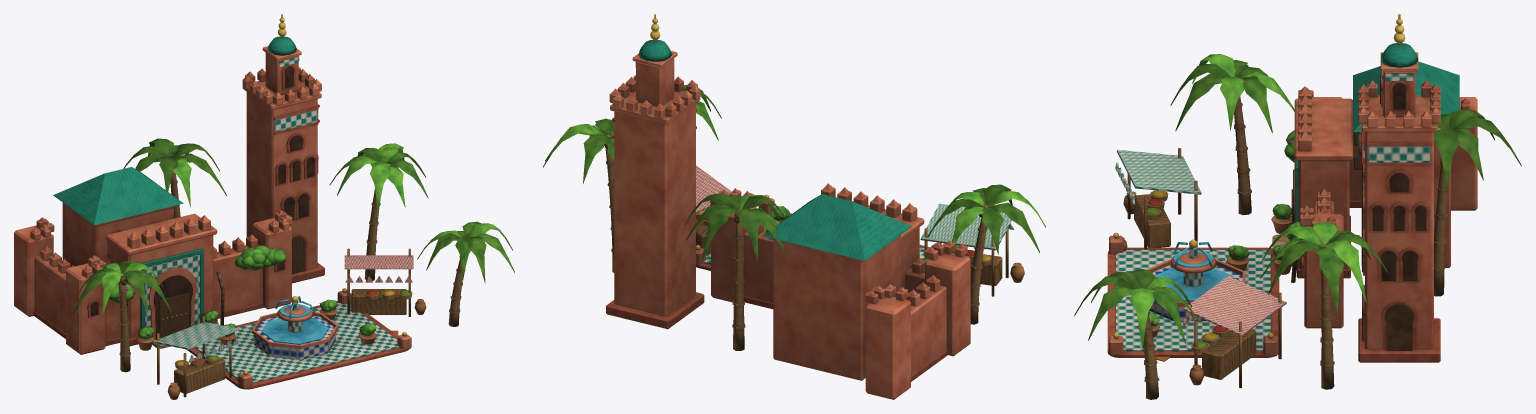
The model's file is MarrakechMedina_Buildings.fbx.
3 views of the same model, side by side, from view 1: azimuth 30°, elevation 25°; view 2: azimuth 150°, elevation 25°; view 3: azimuth 270°, elevation 25° (orthographic). The views are drawn at different scales.
Parts seen in each view (by area): view 1: S02_MedinaWalls, S04_Minaret, S03_MedinaGate, S07_RiadHouse, S01_Courtyard, S08_MarketStalls, S06_TiledFountain, S09_Palm_0, S10_FlowerPots, S09_Palm_1, S09_Palm_3, S09_Palm_2 (+1 smaller); view 2: S04_Minaret, S07_RiadHouse, S02_MedinaWalls, S08_MarketStalls, S09_Palm_2, S09_Palm_1, S05_MinaretTop, S03_MedinaGate, S09_Palm_0, S01_Courtyard; view 3: S04_Minaret, S08_MarketStalls, S01_Courtyard, S03_MedinaGate, S02_MedinaWalls, S09_Palm_0, S09_Palm_1, S09_Palm_3, S09_Palm_2, S07_RiadHouse, S06_TiledFountain, S05_MinaretTop (+1 smaller).
Boxes of the visible parts, <box> form: S02_MedinaWalls: <box>14,209,292,354</box>; S04_Minaret: <box>242,67,324,283</box>; S03_MedinaGate: <box>106,213,217,346</box>; S07_RiadHouse: <box>53,167,183,266</box>; S01_Courtyard: <box>152,288,411,389</box>; S08_MarketStalls: <box>153,248,426,399</box>; S06_TiledFountain: <box>252,296,338,359</box>; S09_Palm_0: <box>329,143,428,280</box>; S10_FlowerPots: <box>108,245,376,350</box>; S09_Palm_1: <box>73,260,171,372</box>; S09_Palm_3: <box>417,221,514,326</box>; S09_Palm_2: <box>123,138,226,218</box>; S04_Minaret: <box>606,75,704,329</box>; S07_RiadHouse: <box>762,194,912,380</box>; S02_MedinaWalls: <box>710,188,970,399</box>; S08_MarketStalls: <box>696,165,1024,296</box>; S09_Palm_2: <box>684,193,786,350</box>; S09_Palm_1: <box>927,184,1045,324</box>; S05_MinaretTop: <box>632,14,677,106</box>; S03_MedinaGate: <box>821,183,924,288</box>; S09_Palm_0: <box>543,118,614,272</box>; S01_Courtyard: <box>696,194,945,270</box>; S04_Minaret: <box>1358,80,1440,362</box>; S08_MarketStalls: <box>1115,148,1286,388</box>; S01_Courtyard: <box>1107,232,1292,357</box>; S03_MedinaGate: <box>1290,86,1352,278</box>; S02_MedinaWalls: <box>1300,87,1477,328</box>; S09_Palm_0: <box>1260,221,1387,389</box>; S09_Palm_1: <box>1170,54,1294,215</box>; S09_Palm_3: <box>1074,269,1198,399</box>; S09_Palm_2: <box>1434,109,1521,296</box>; S07_RiadHouse: <box>1353,61,1459,267</box>; S06_TiledFountain: <box>1146,239,1245,320</box>; S05_MinaretTop: <box>1380,14,1418,116</box>.
Size of the model in its own units: 17.52 by 10.76 by 13.03.
1 material, 1 textured.
